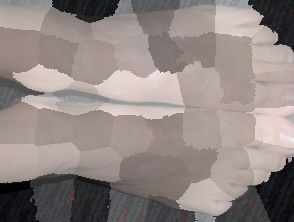vitiligo: (67, 0, 221, 134)
